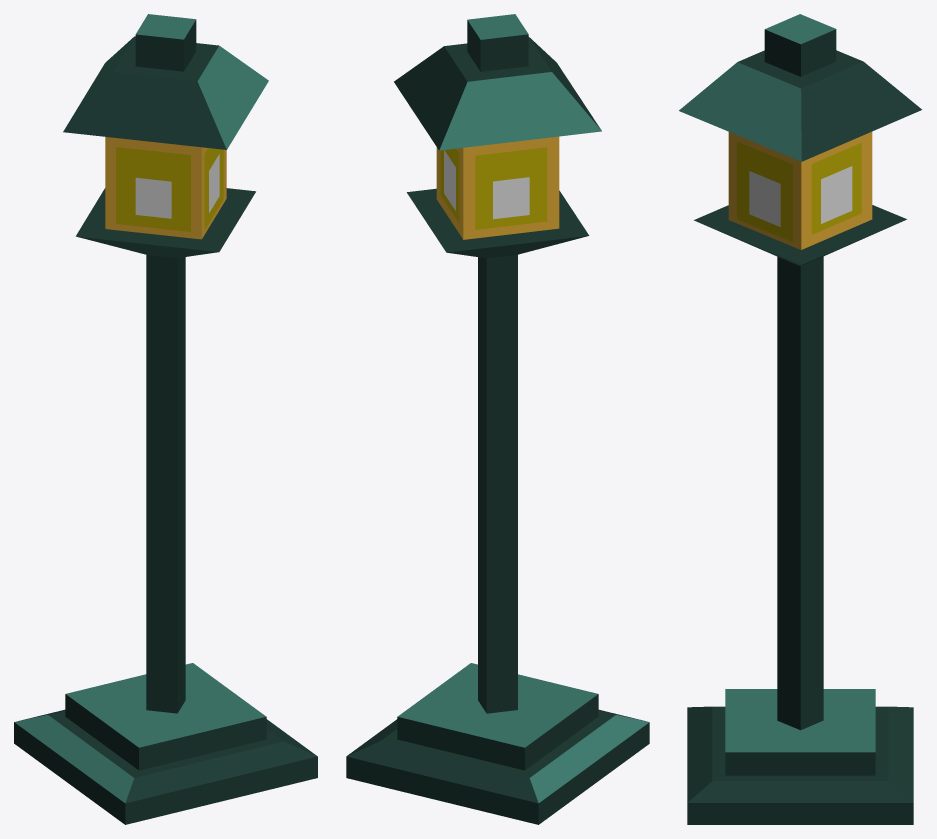
The model's file is lamp.fbx.
3 views of the same model, side by side, from view 1: azimuth 30°, elevation 25°; view 2: azimuth 150°, elevation 25°; view 3: azimuth 270°, elevation 25° (orthographic).
Parts seen in each view (by area): view 1: pCube1; view 2: pCube1; view 3: pCube1.
Part boxes in pixels (bbox=[...]): pCube1: bbox=[14, 14, 317, 824]; pCube1: bbox=[346, 14, 649, 824]; pCube1: bbox=[679, 14, 921, 824].
Size of the model in its own units: 346 by 1172 by 346.
